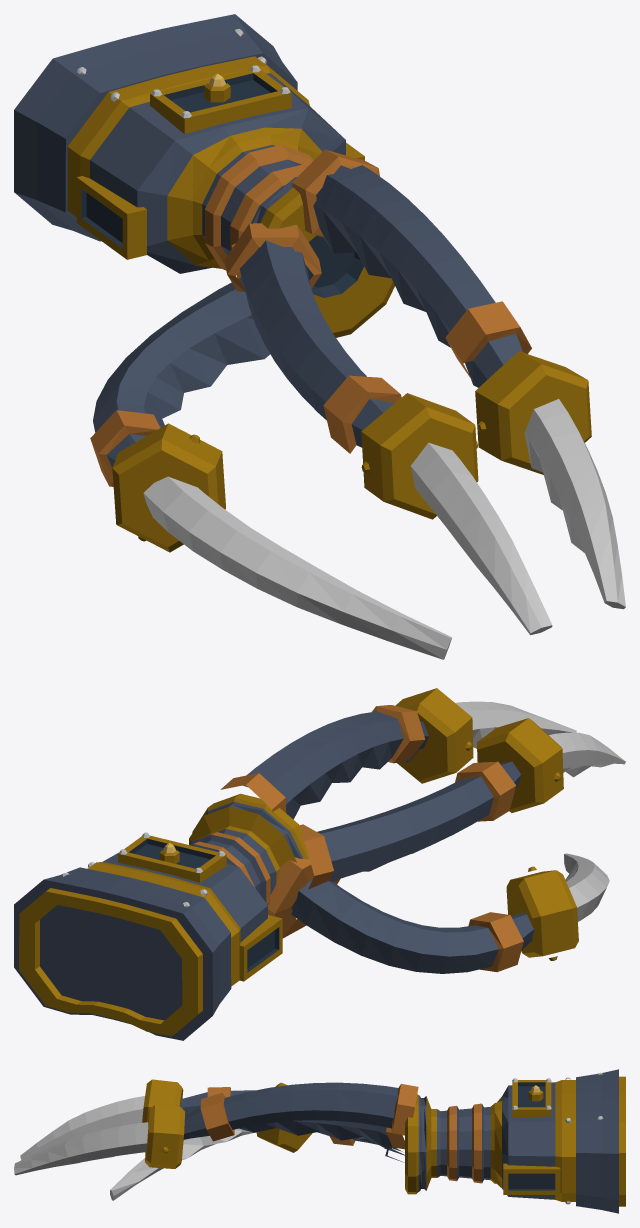
Rendered from mechanical-finger-extender-claw-38a9a3.glb.
The picture shows the model from 3 angles, top to bottom: view 1: azimuth 30°, elevation 25°; view 2: azimuth 150°, elevation 25°; view 3: azimuth 270°, elevation 25°; orthographic projection. The views are drawn at different scales.
Visible parts, largest first — view 1: wrist, thumb-phalanx-proximal, index-finger-phalanx-proximal, middle-finger-phalanx-proximal, thumb-metacarpal; view 2: wrist, thumb-metacarpal, index-finger-phalanx-proximal, middle-finger-phalanx-proximal, thumb-phalanx-proximal; view 3: wrist, middle-finger-phalanx-proximal, index-finger-phalanx-proximal, thumb-phalanx-proximal, thumb-metacarpal.
Boxes of the visible parts, x1=… form: wrist: x1=14, y1=14, x2=531, y2=453; thumb-phalanx-proximal: x1=112, y1=423, x2=451, y2=659; index-finger-phalanx-proximal: x1=361, y1=393, x2=552, y2=635; middle-finger-phalanx-proximal: x1=475, y1=351, x2=625, y2=609; thumb-metacarpal: x1=90, y1=277, x2=269, y2=486; wrist: x1=14, y1=705, x2=521, y2=1040; thumb-metacarpal: x1=291, y1=880, x2=534, y2=973; index-finger-phalanx-proximal: x1=477, y1=718, x2=625, y2=812; middle-finger-phalanx-proximal: x1=395, y1=688, x2=576, y2=783; thumb-phalanx-proximal: x1=506, y1=853, x2=609, y2=960; wrist: x1=180, y1=1069, x2=625, y2=1213; middle-finger-phalanx-proximal: x1=14, y1=1105, x2=184, y2=1175; index-finger-phalanx-proximal: x1=20, y1=1079, x2=183, y2=1159; thumb-phalanx-proximal: x1=110, y1=1082, x2=312, y2=1200; thumb-metacarpal: x1=317, y1=1131, x2=404, y2=1162.
Bounding box in the file's own units: 0.0816 × 0.0489 × 0.1717.
